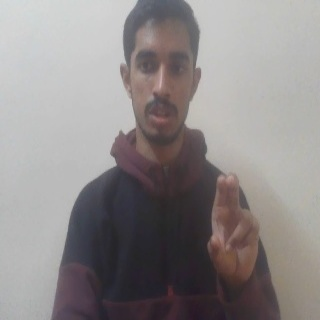No: (206, 172, 262, 288)
